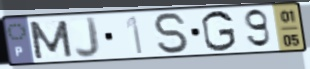1: (124, 14, 145, 56)
9: (242, 8, 274, 51)
G: (199, 9, 238, 53)
J: (73, 15, 102, 60)
M: (26, 18, 75, 61)
S: (151, 11, 193, 56)
